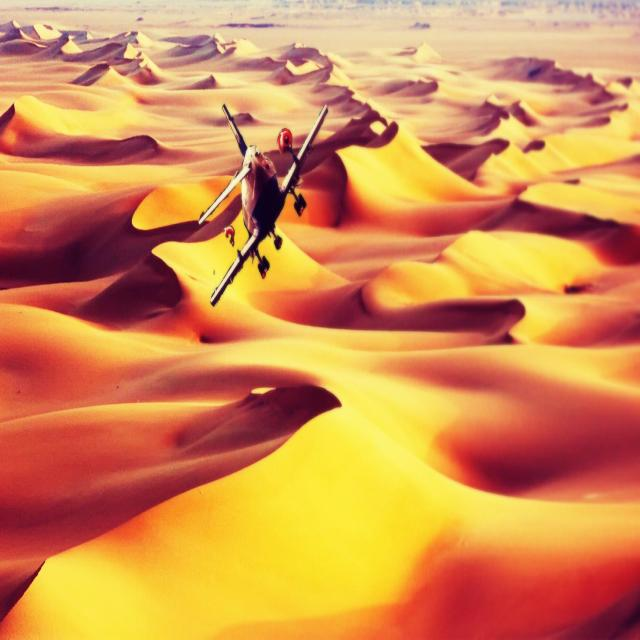airplane: (195, 99, 328, 308)
